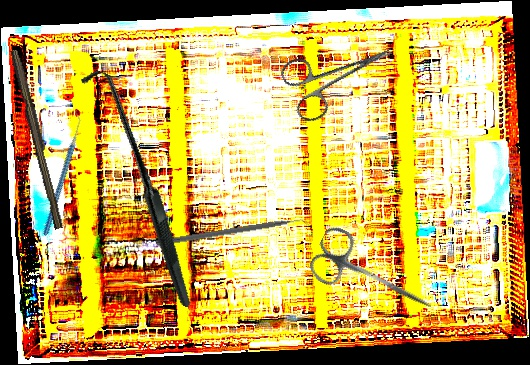Chopper: (5, 109, 117, 237), (155, 215, 313, 255)
Hook Surgical: (18, 66, 257, 308)
Iris Scissors: (304, 223, 445, 330), (277, 22, 406, 127)
Scalpel Handle: (7, 48, 69, 230)
